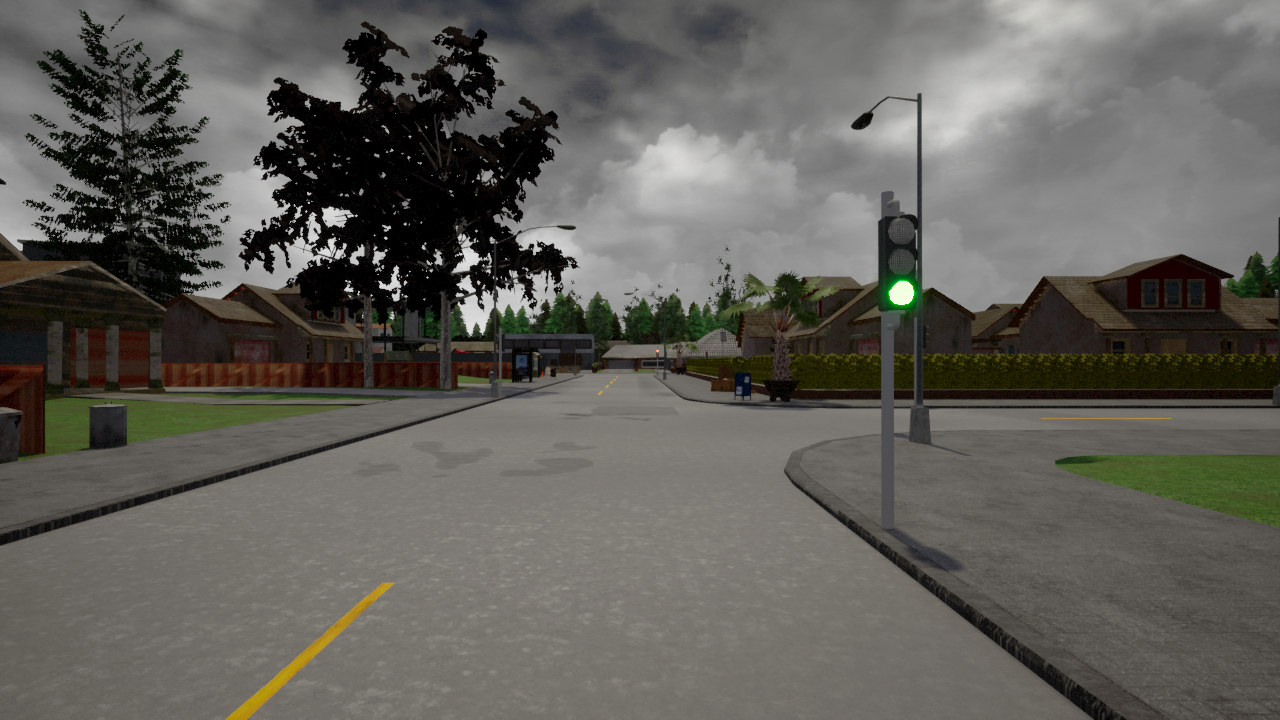green: (875, 211, 918, 310)
